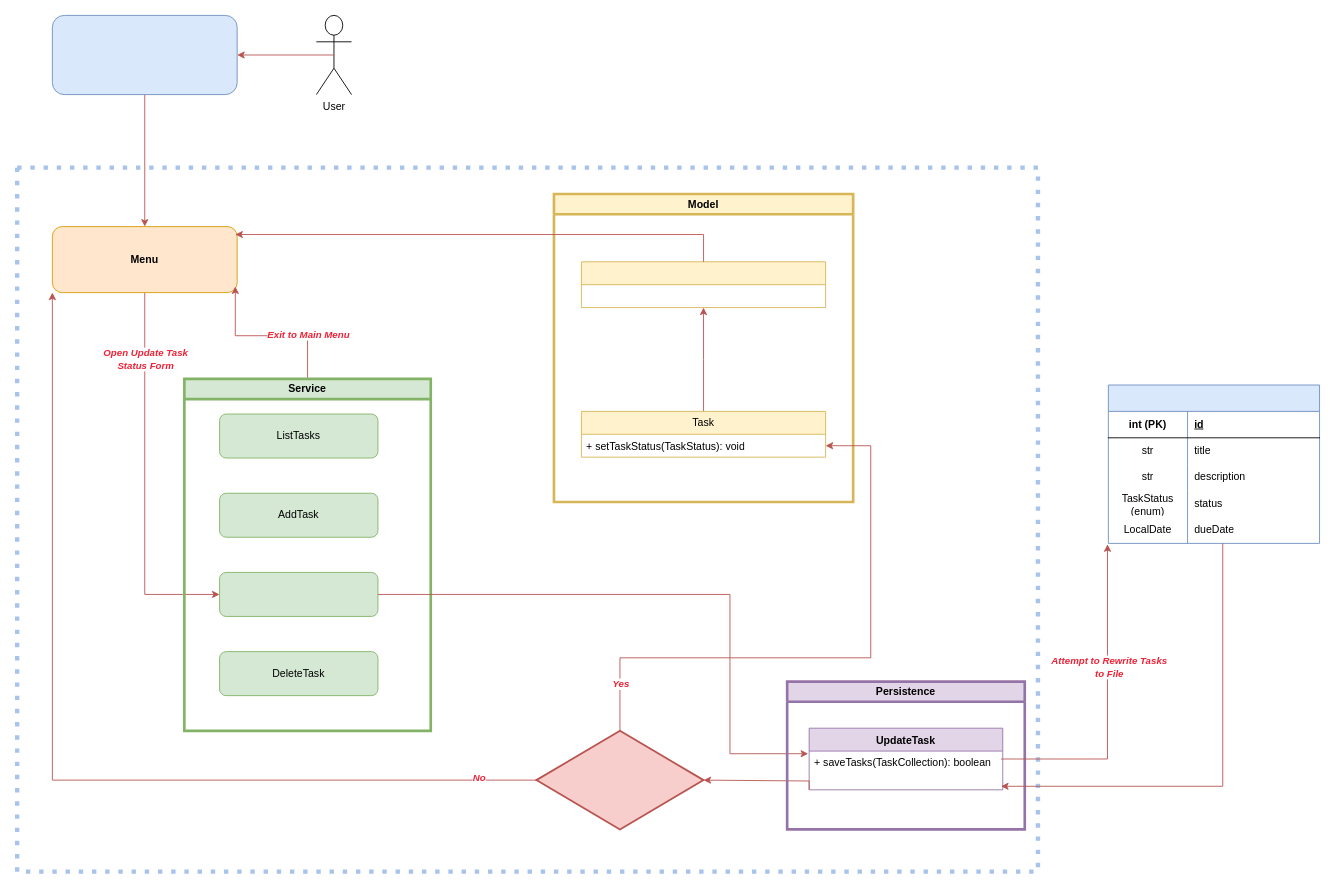
Some shapes in this 1335 by 889 pixel diagram are drawn without their labels. The shapes that lost their labels are listed below. From the top down, each one's box as (x1, y1, x2, y2) in pixels, then its label:
(51, 15, 237, 95): Console UI
(581, 261, 826, 308): TaskCollection
(1107, 384, 1320, 543): tasks.csv
(219, 572, 378, 616): UpdateTaskStatus
(535, 730, 704, 830): Did saveTasks write to `tasks.csv`?
